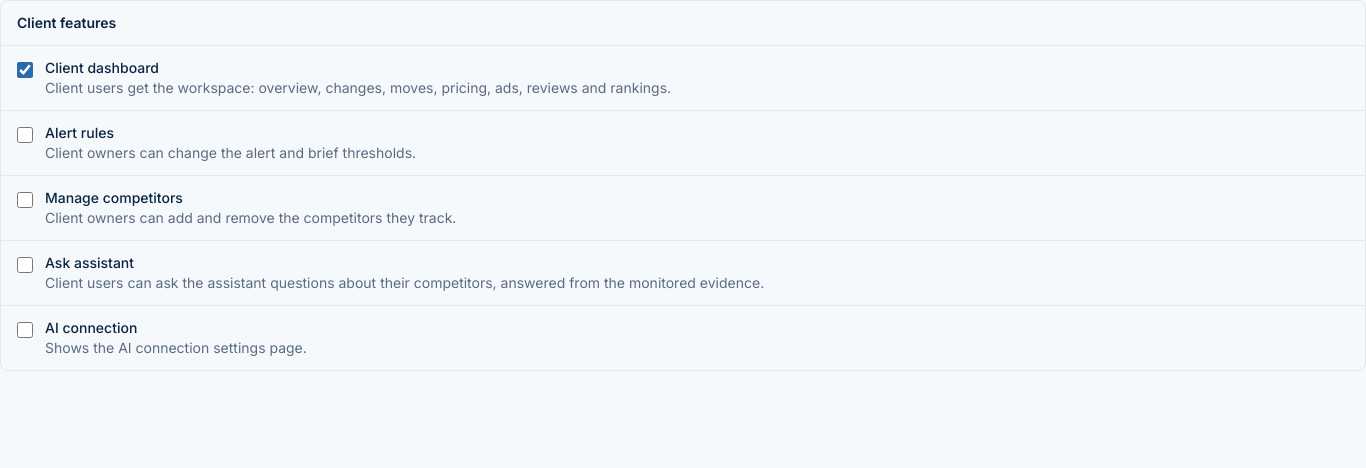
Scenario: ClientFeaturesForm › shows the Save features bar only while a switch has changed
Expected: the button "Save features" is not shown
Click the checkbox labelled "Alert rules" at (25, 135), box [17,127,33,143]
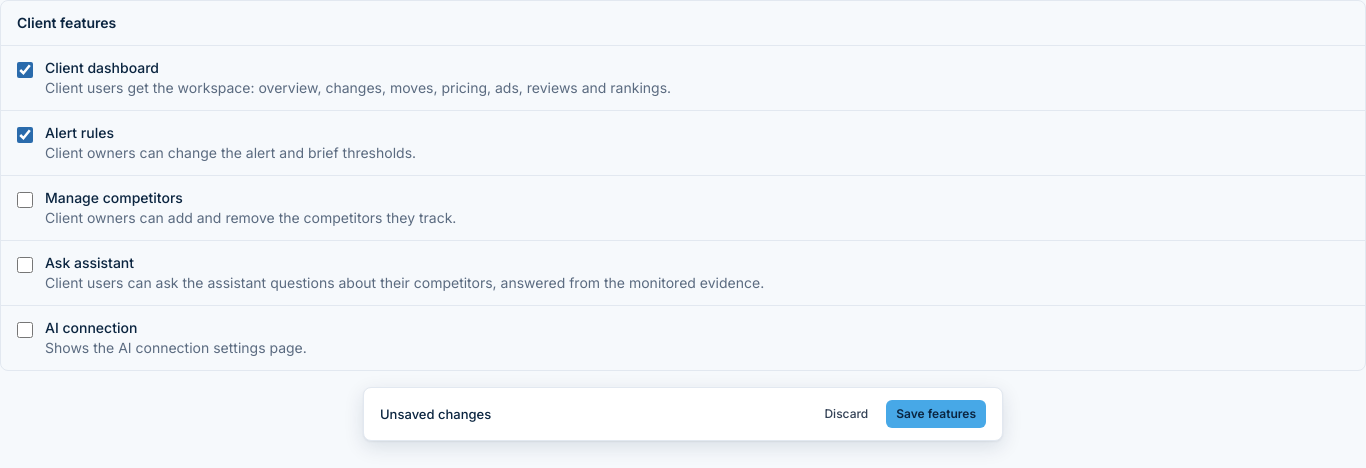
Now the button "Save features" is shown, box [886,400,986,428]
